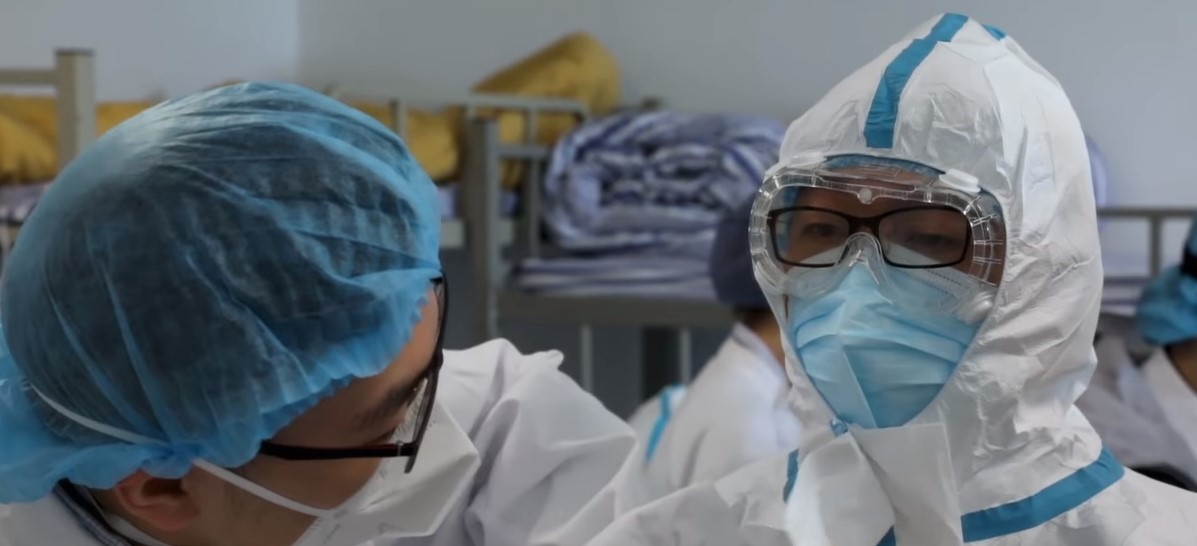face_with_mask: (0, 78, 485, 539), (748, 9, 1105, 450)
